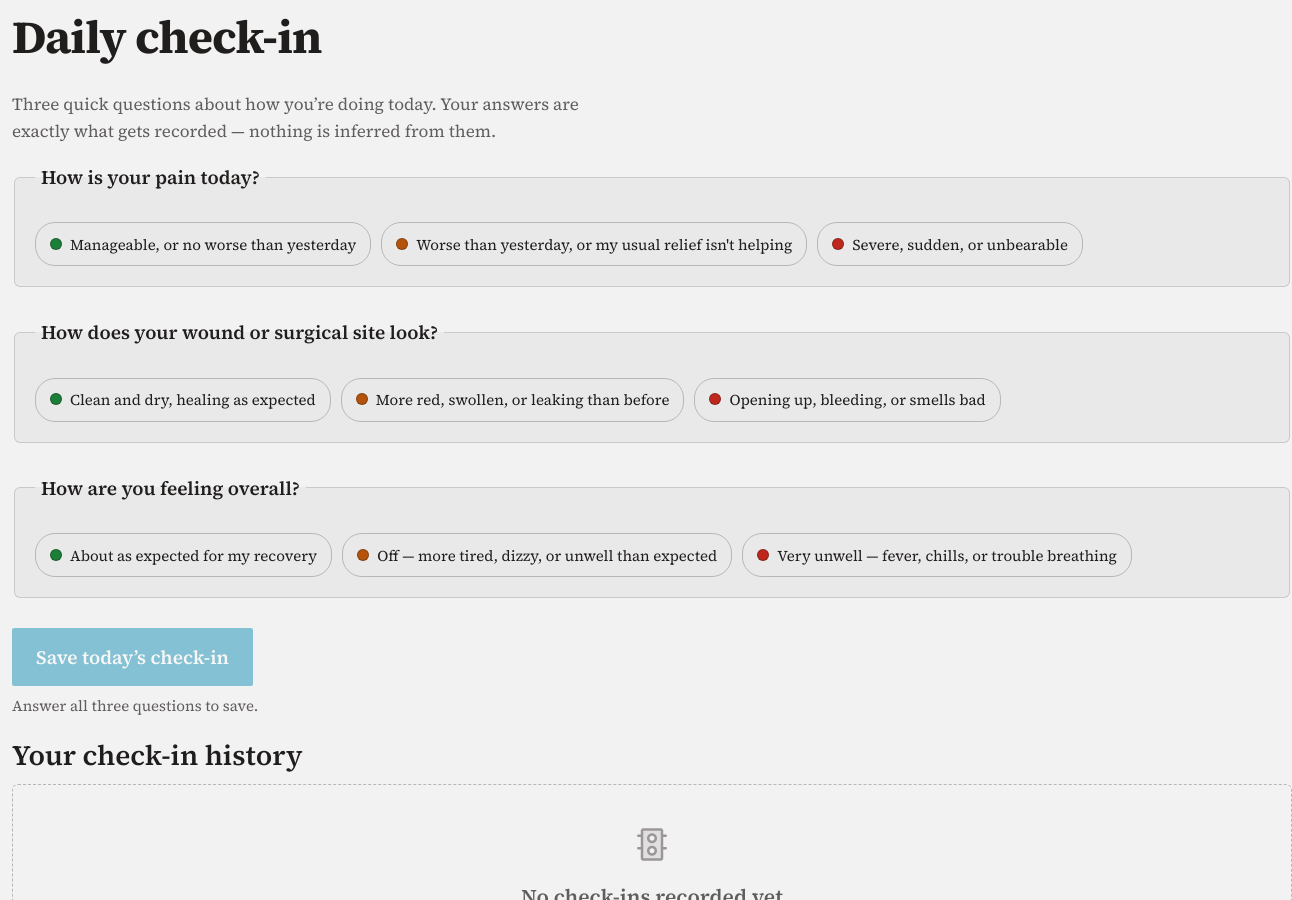
Test case: CheckIn screen › records the check-in in the history list
This screenshot has width=1292, height=900.
Click the button "Manageable, or no worse than yesterday". click: (203, 244)
box: [35,222,371,266]
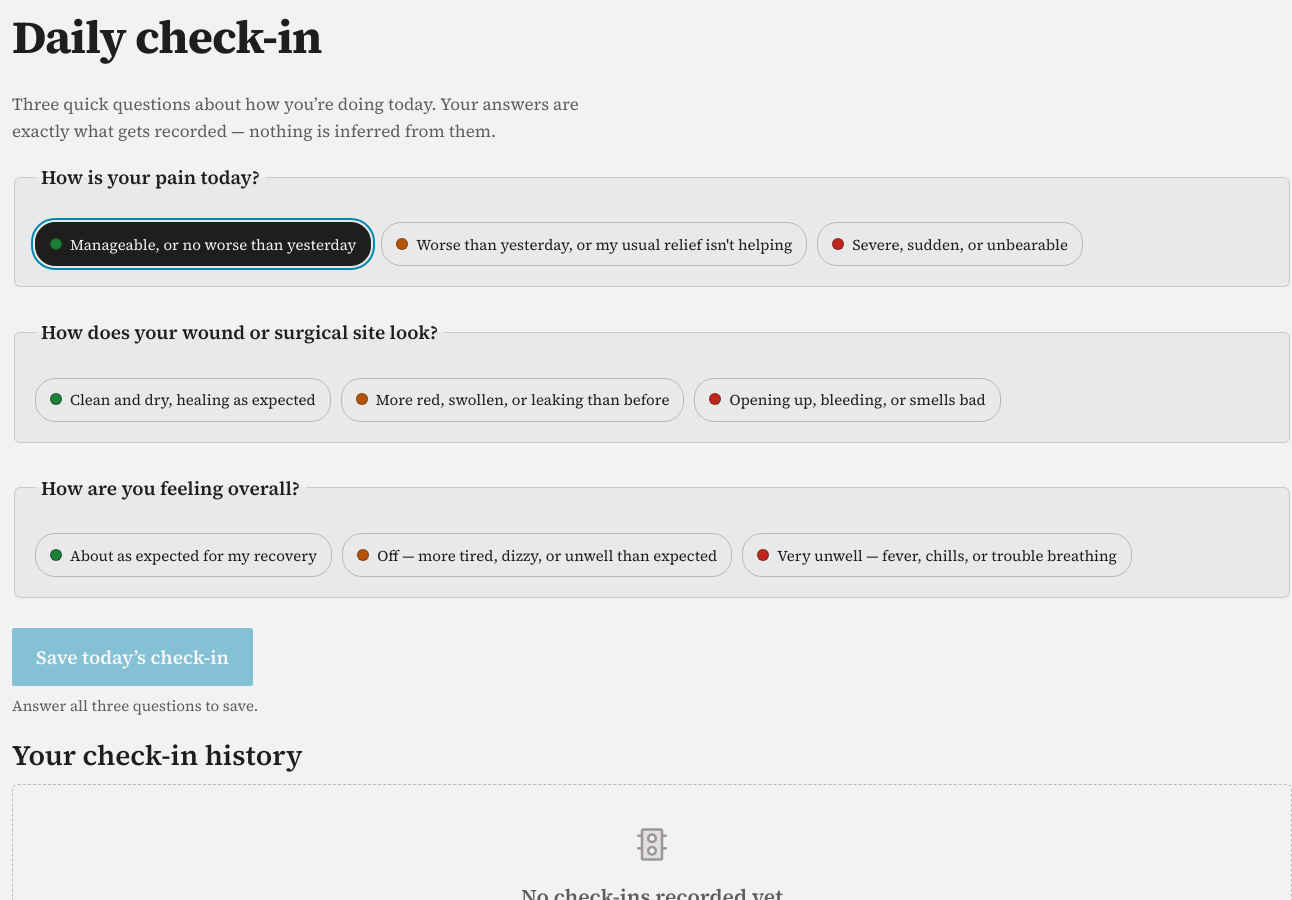
Click the button "Clean and dry, healing as expected". click: (183, 400)
box: [35,378,331,422]
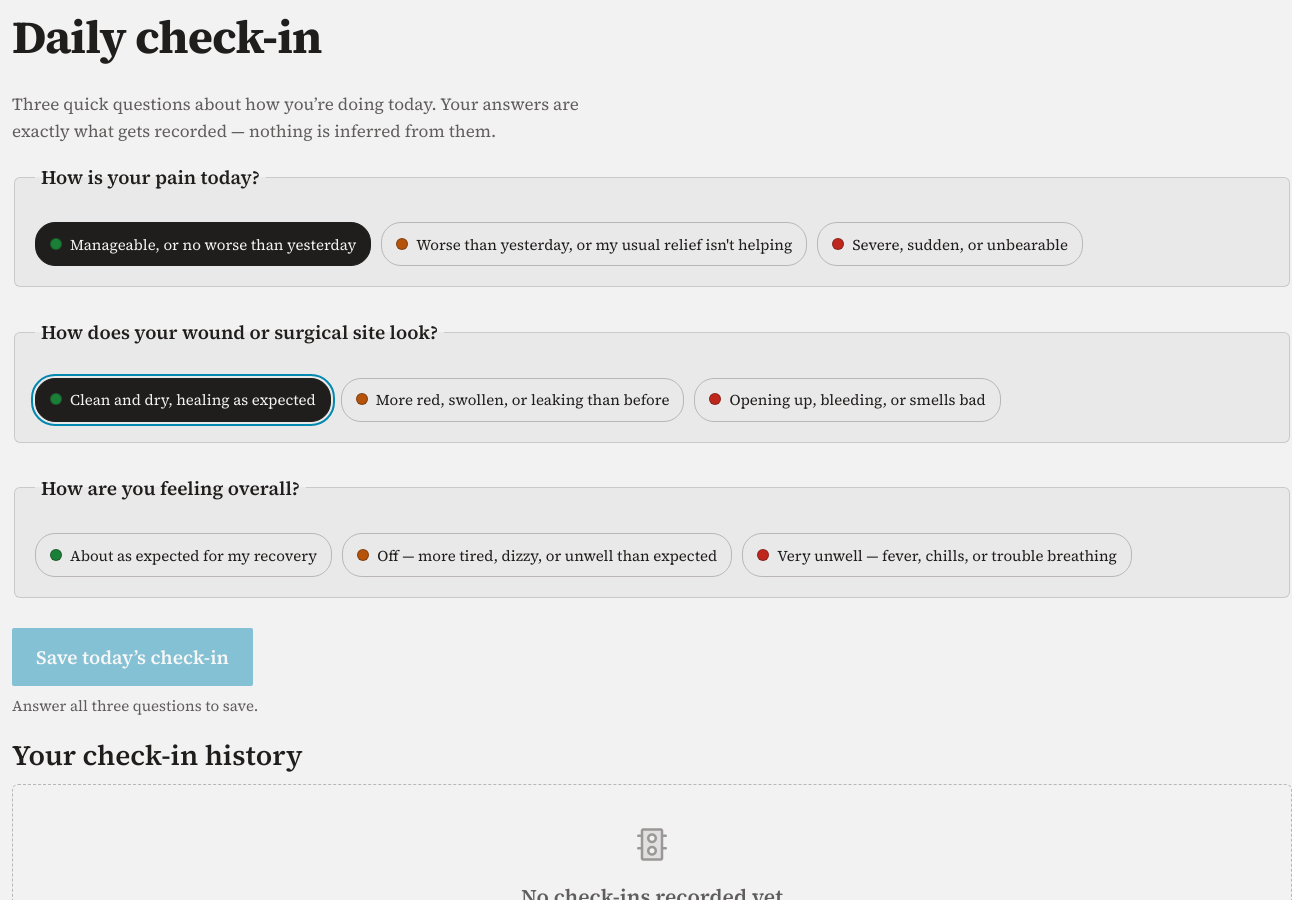
Click the button "About as expected for my recovery". click: (184, 555)
box: [35,533,332,577]
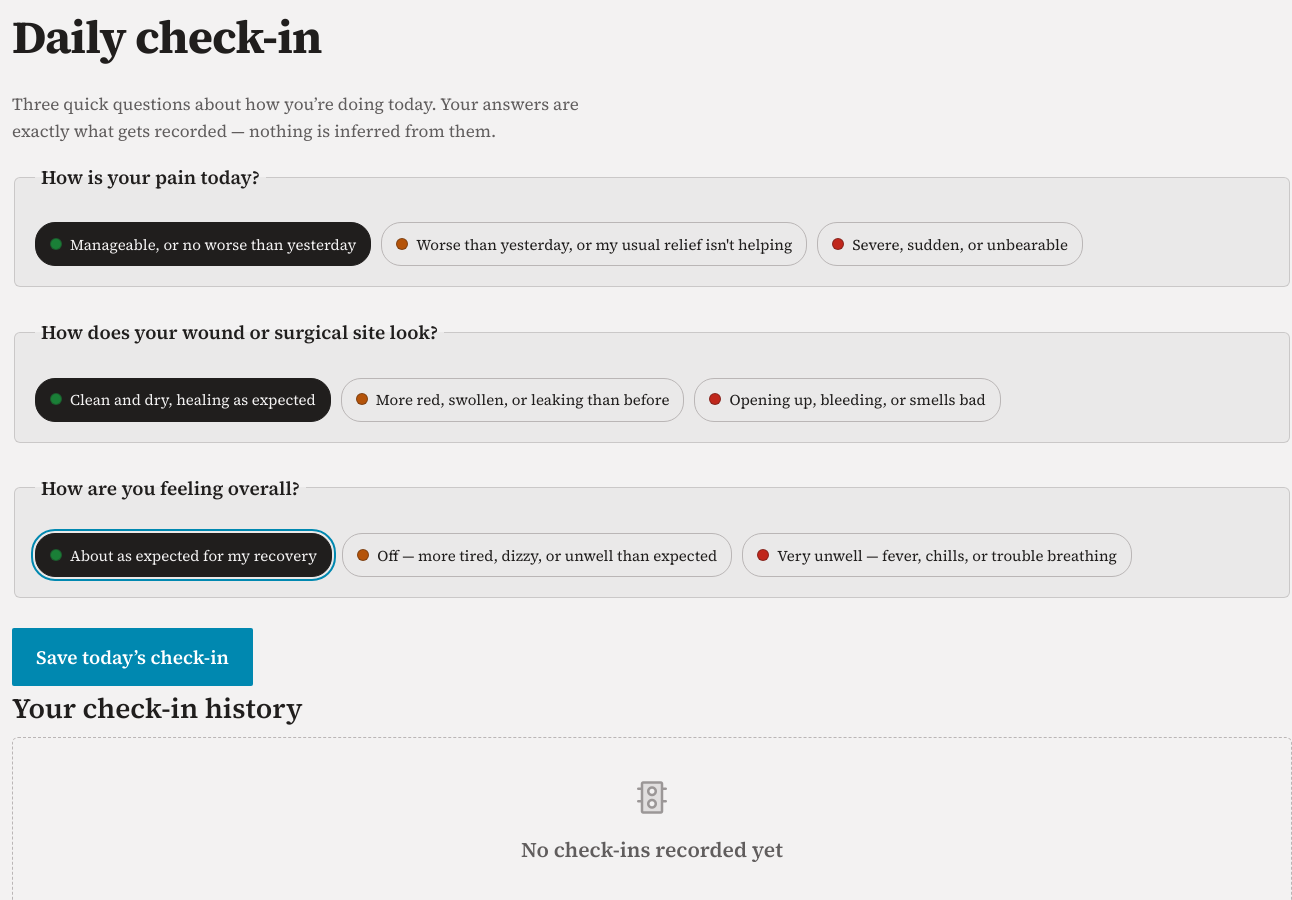
Click the button "Save today’s check-in". click: (132, 657)
box: [12,628,253,686]
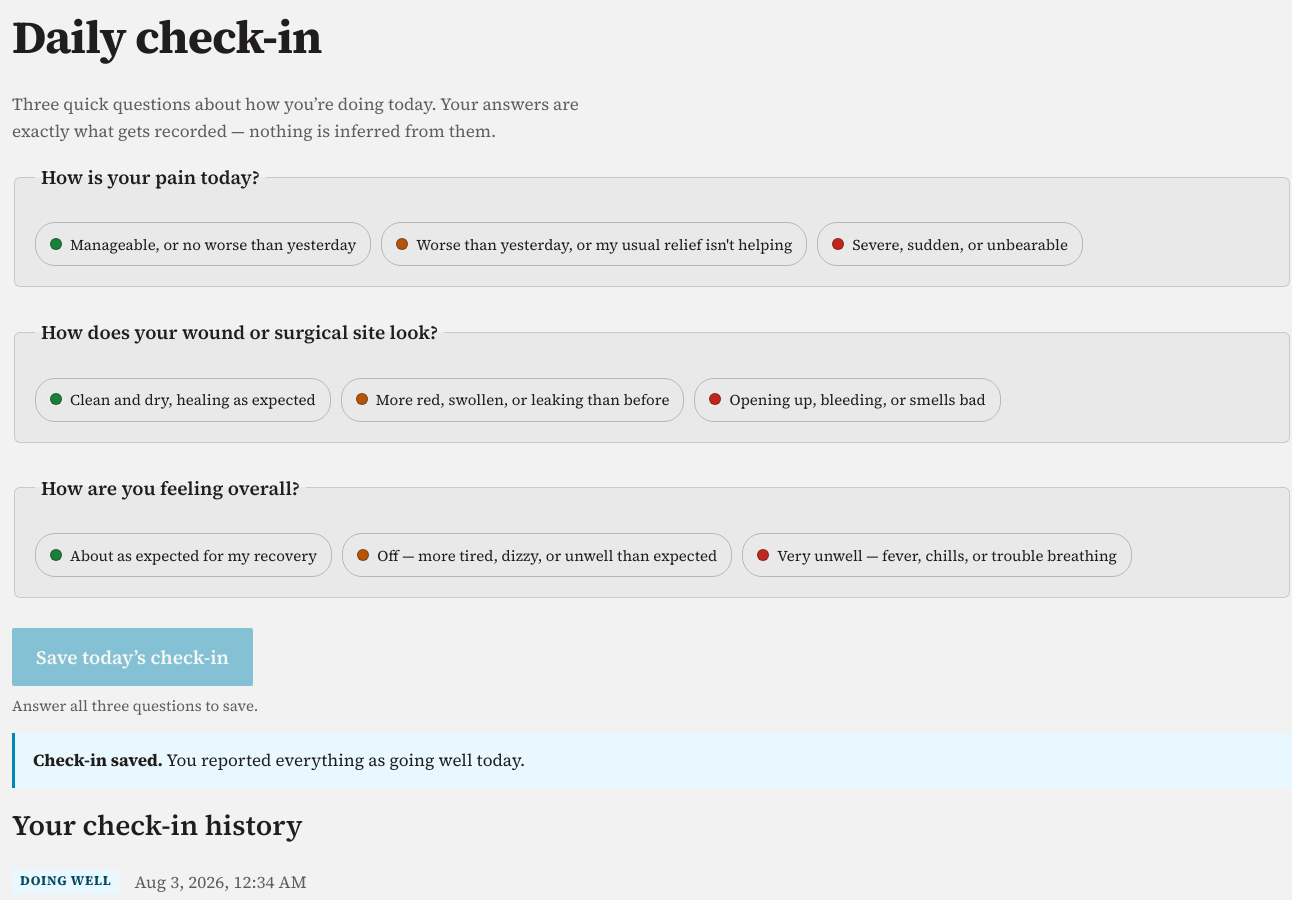
expect the heading "Your check-in history" is shown: met, box [12,806,303,844]
expect the heading "No check-ins recorded yet" is gone: met
expect the text "Doing well" is shown: met, box [12,869,119,894]
